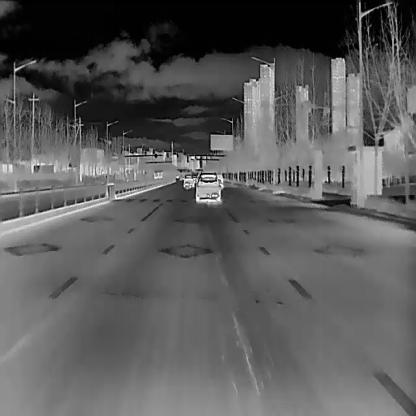bus: (152, 168, 162, 178)
car: (195, 171, 220, 202), (182, 173, 194, 189)
